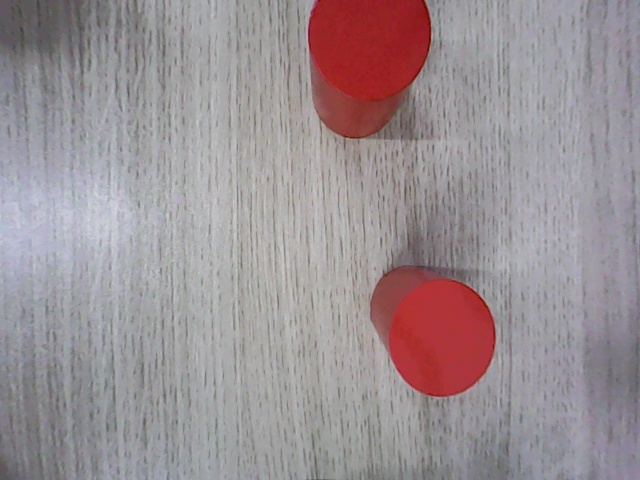upside of cylinder: (388, 279, 494, 398), (308, 0, 433, 100)
upside of small cube: (126, 147, 265, 281)
